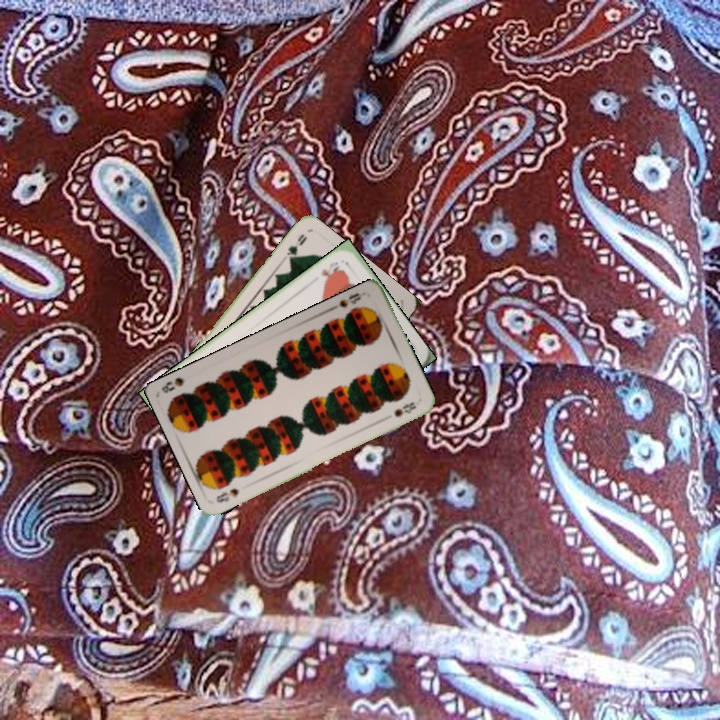G9: (283, 230, 310, 265)
HO: (317, 258, 343, 284)
S8: (334, 289, 365, 311), (212, 484, 241, 505)
